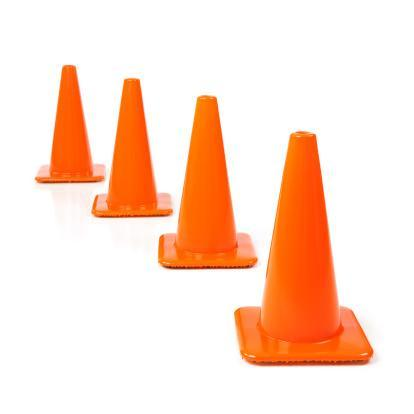Cone: (243, 130, 371, 364), (161, 95, 251, 265), (96, 79, 172, 215), (29, 65, 103, 183)
